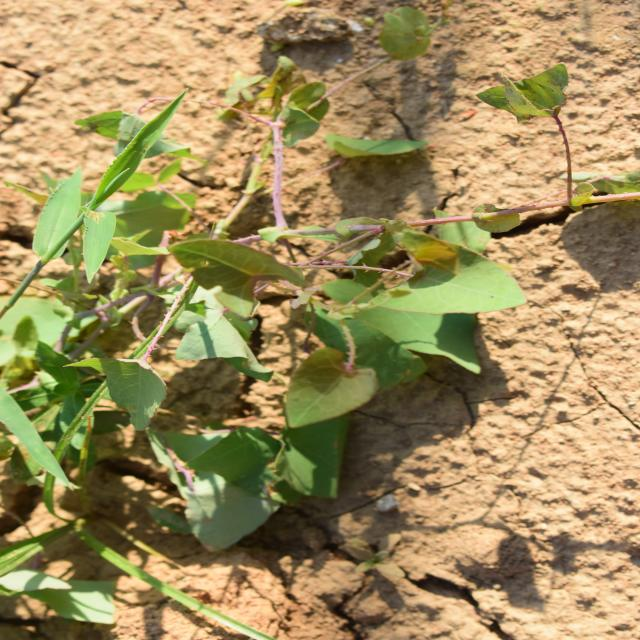Asiatic_Smartweed: (203, 171, 435, 534), (451, 171, 633, 443)
